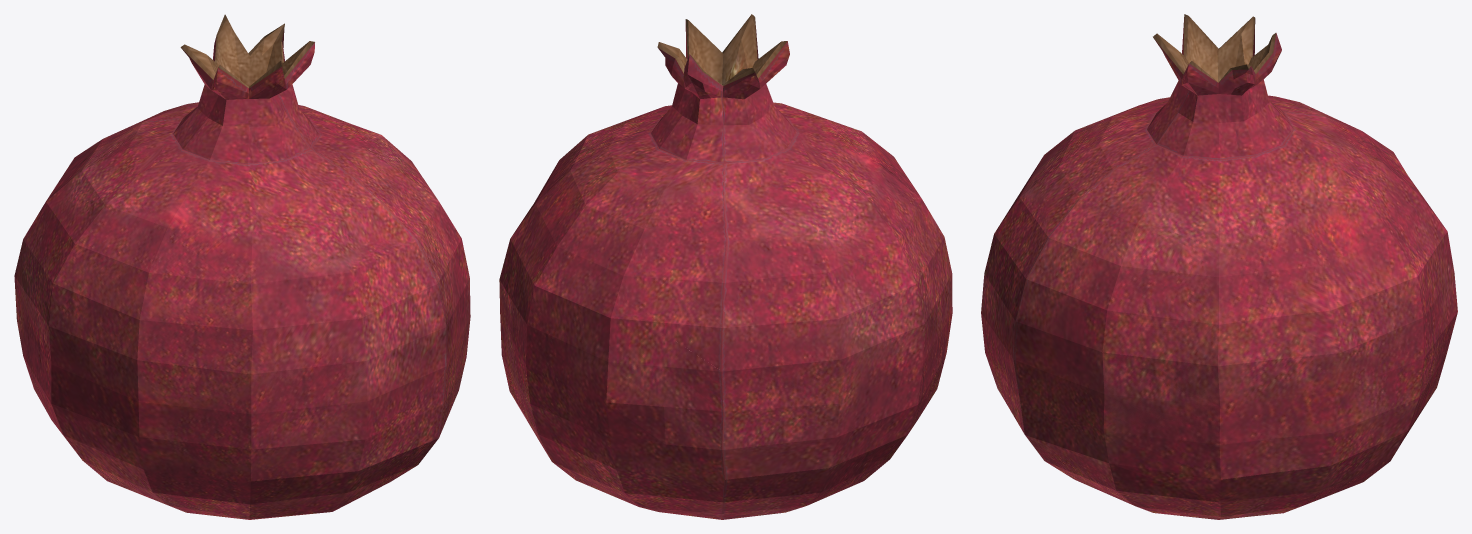
Rendered from garnet.fbx.
3 renders of one model, left to right at view 1: azimuth 30°, elevation 25°; view 2: azimuth 150°, elevation 25°; view 3: azimuth 270°, elevation 25°, orthographic.
Parts seen in each view (by area): view 1: garnet, garnet.004, garnet.003, garnet.001; view 2: garnet, garnet.004, garnet.003, garnet.002, garnet.005; view 3: garnet, garnet.003, garnet.002, garnet.001.
Part boxes in pixels (box(x1,y1,x2,y2)): garnet: box(17, 14, 470, 518); garnet.004: box(14, 152, 391, 463); garnet.003: box(92, 18, 469, 326); garnet.001: box(72, 358, 466, 519); garnet: box(499, 14, 952, 515); garnet.004: box(669, 130, 952, 432); garnet.003: box(507, 14, 853, 335); garnet.002: box(499, 252, 683, 512); garnet.005: box(664, 337, 908, 519); garnet: box(981, 16, 1457, 519); garnet.003: box(1015, 14, 1447, 364); garnet.002: box(1161, 235, 1457, 517); garnet.001: box(981, 313, 1235, 519).
Size of the model in its own units: 0.8405 by 0.935 by 0.8765.
